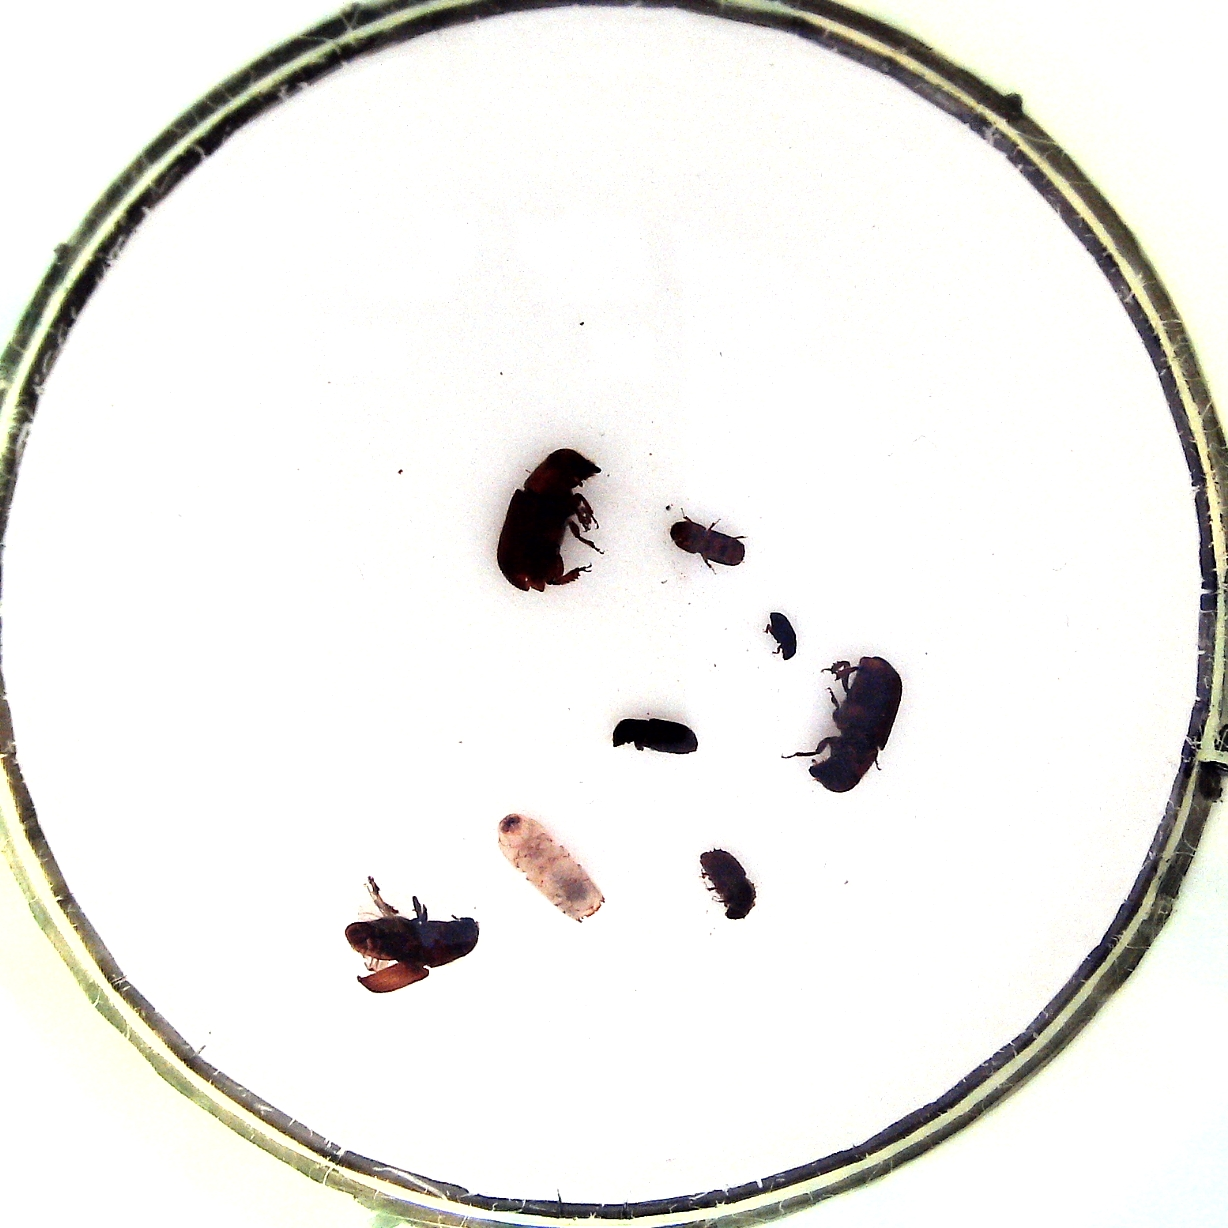Boerner: (493, 810, 610, 923)
Leconte: (337, 881, 484, 995), (491, 446, 599, 594), (802, 651, 904, 795)
Linnaeus: (694, 843, 760, 922)
acuminatus: (669, 515, 748, 574)
armandi: (605, 712, 702, 759)
coleoptera: (761, 605, 804, 663)
